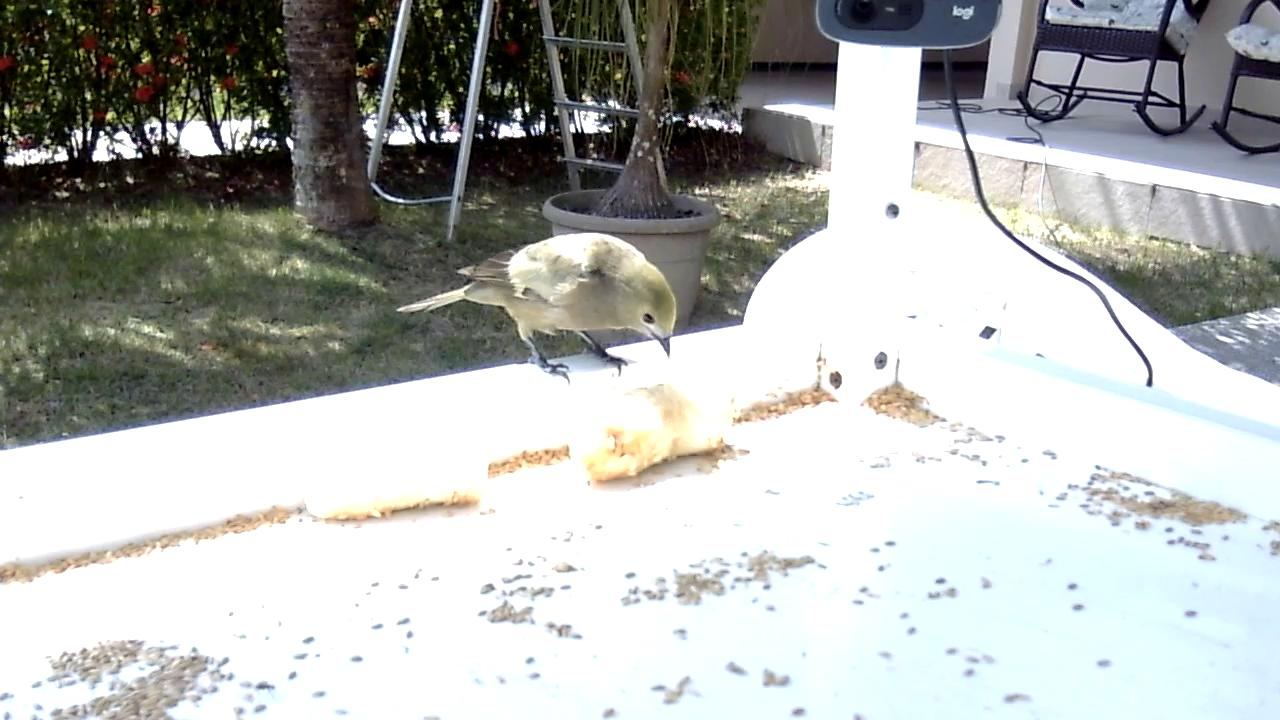sanhaco_do_coqueiro: (396, 231, 683, 390)
